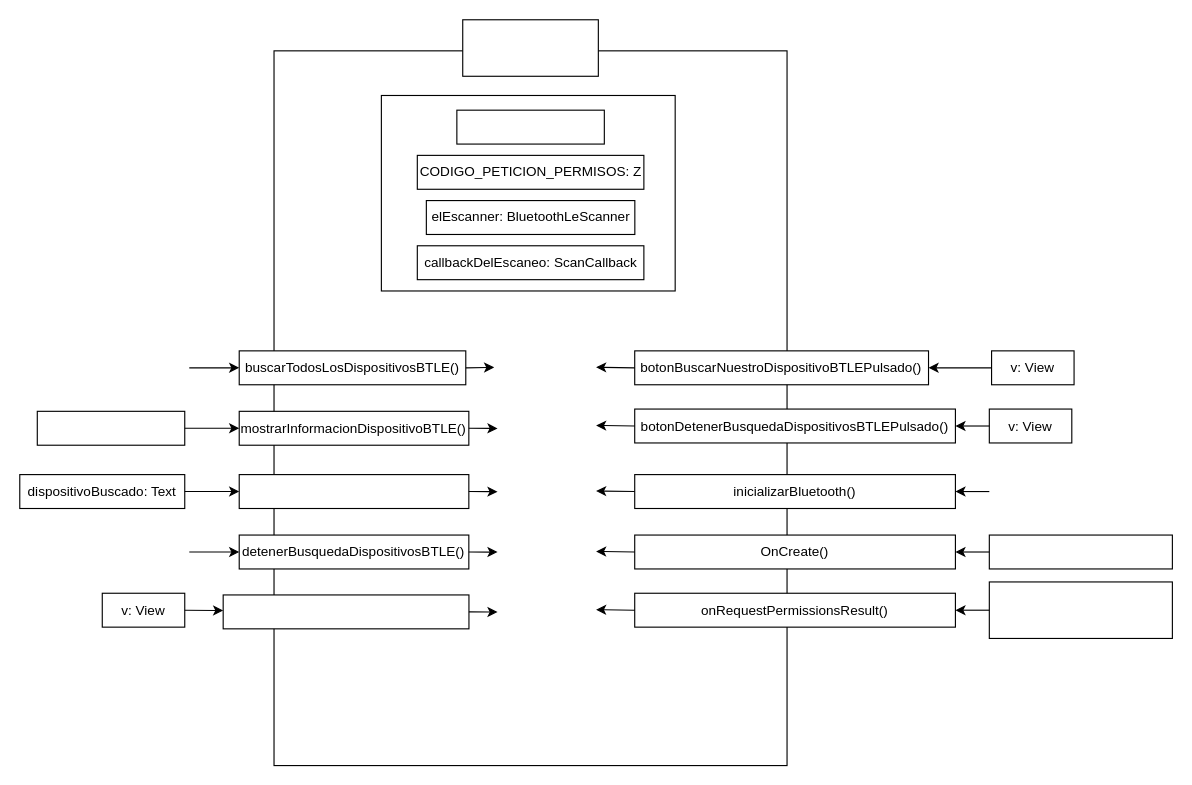
Some shapes in this 1192 by 785 pixel diagram are drawn without their labels. Each missing label, with the centre of its shape:
botonBuscarDispositivosBTLEPulsado(): pixel 345 611
buscarEsteDispositivoBTLE(): pixel 353 490
ETIQUETA_LOG: Text: pixel 530 126
MainActivity: pixel 530 47
requestCode: Z permissions: [Text] grantResults: [Z]: pixel 1080 609
resultado: ScanResult: pixel 110 427
savedInstanceState: Bundle: pixel 1080 551
